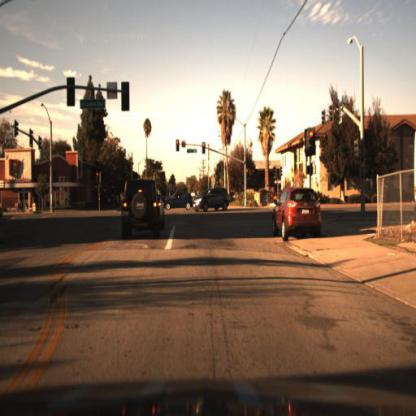car: (112, 164, 168, 249), (266, 179, 328, 248), (268, 189, 325, 239), (119, 179, 163, 239), (194, 185, 230, 215)
trafficLight-Red: (304, 124, 316, 153), (306, 127, 317, 155), (92, 169, 102, 185), (174, 135, 183, 151), (199, 140, 208, 153), (244, 166, 251, 180), (201, 142, 207, 158)
trafficLight-RedLeft: (174, 136, 181, 157)
